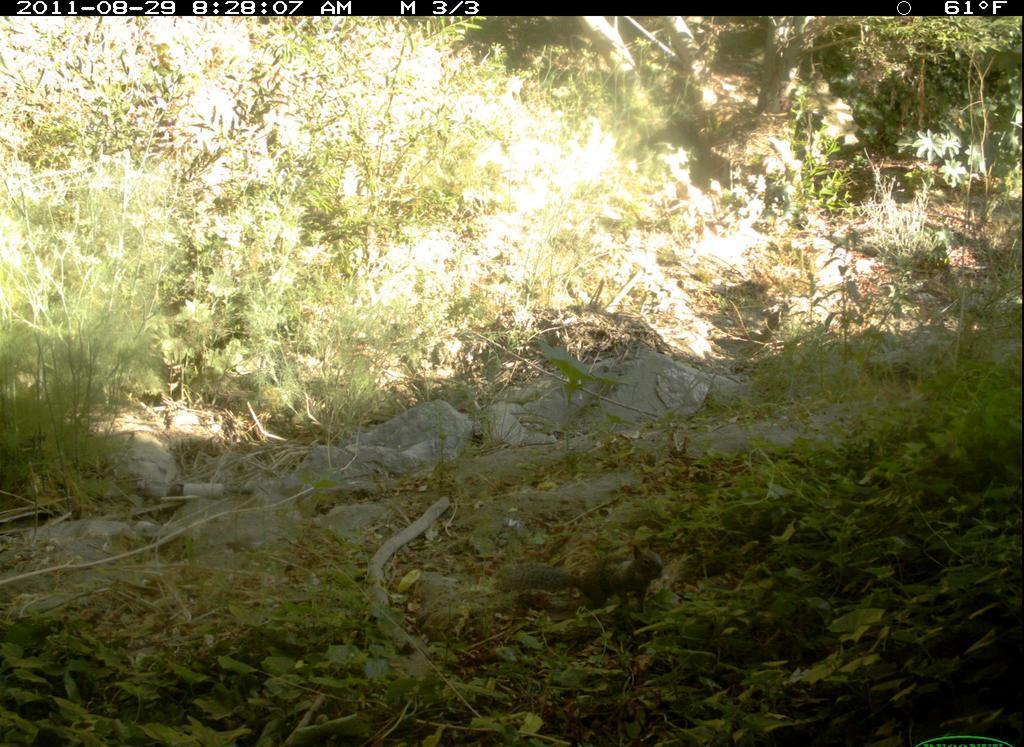squirrel: (491, 539, 667, 617)
